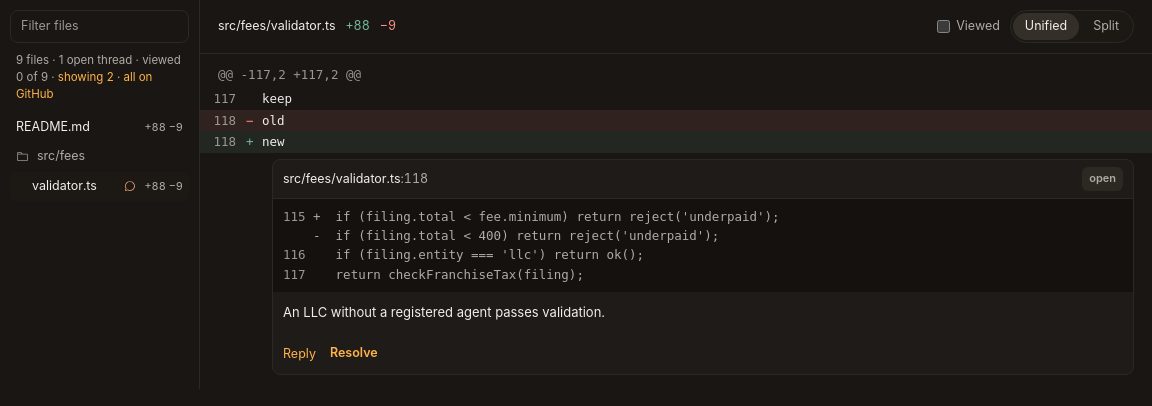
PrFiles › shows the file you pick
This screenshot has width=1152, height=406.
Click the button "README.md +88 −9": (100, 127) x1=10 y1=112 x2=189 y2=141
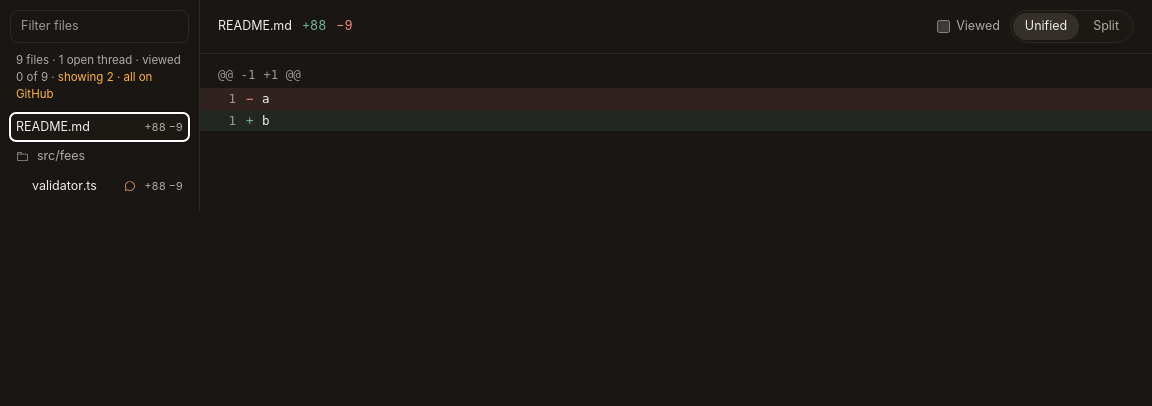
Now the heading "README.md" is shown, box x1=218 y1=17 x2=292 y2=36
